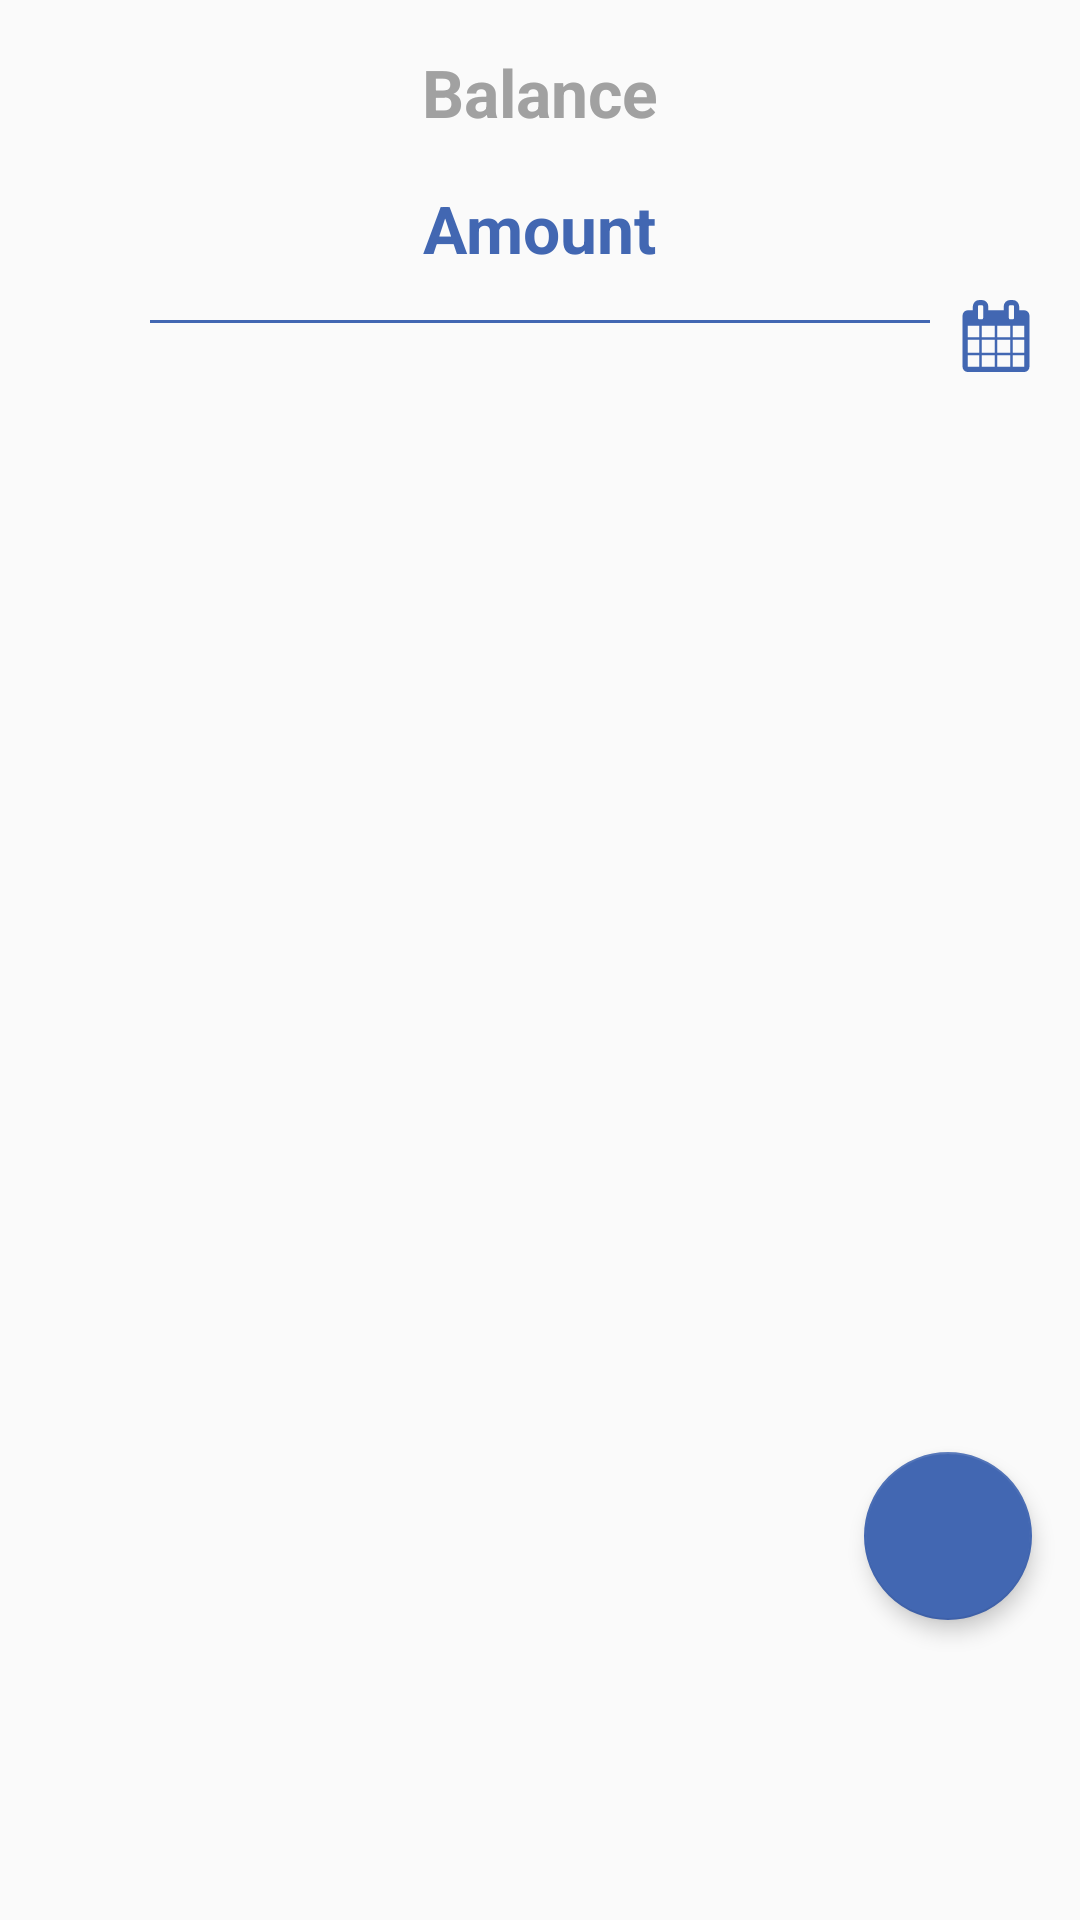

Screen size 1080 x 1920. Icon name, then its box in pixels as [x1, y1, x2, y2]:
calendar: [962, 300, 1030, 372]
